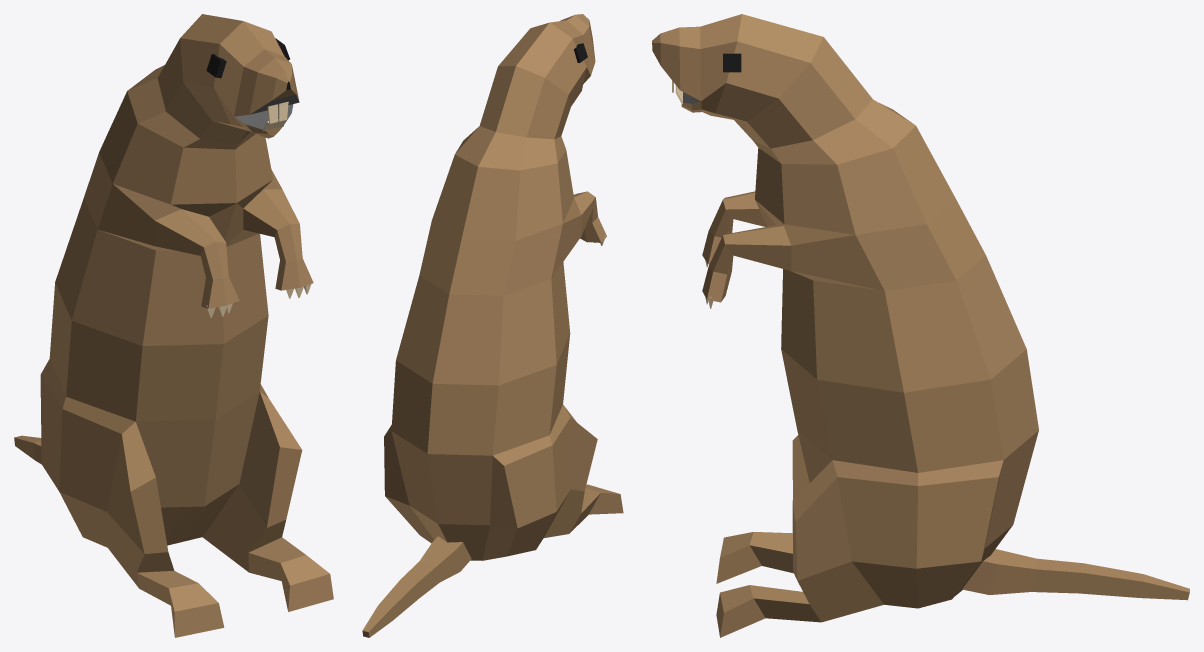
The picture shows the model from 3 angles, left to right: view 1: azimuth 30°, elevation 25°; view 2: azimuth 150°, elevation 25°; view 3: azimuth 270°, elevation 25°; orthographic projection. The views are drawn at different scales.
Visible parts, largest first — view 1: Geo_Gopher; view 2: Geo_Gopher; view 3: Geo_Gopher.
Boxes of the visible parts, <box> form: Geo_Gopher: <box>14,14,333,637</box>; Geo_Gopher: <box>362,14,623,637</box>; Geo_Gopher: <box>652,14,1189,637</box>.
Bounding box in the file's own units: 23.04 × 67.52 × 56.13.
Materials: 1 (1 with a texture image).
